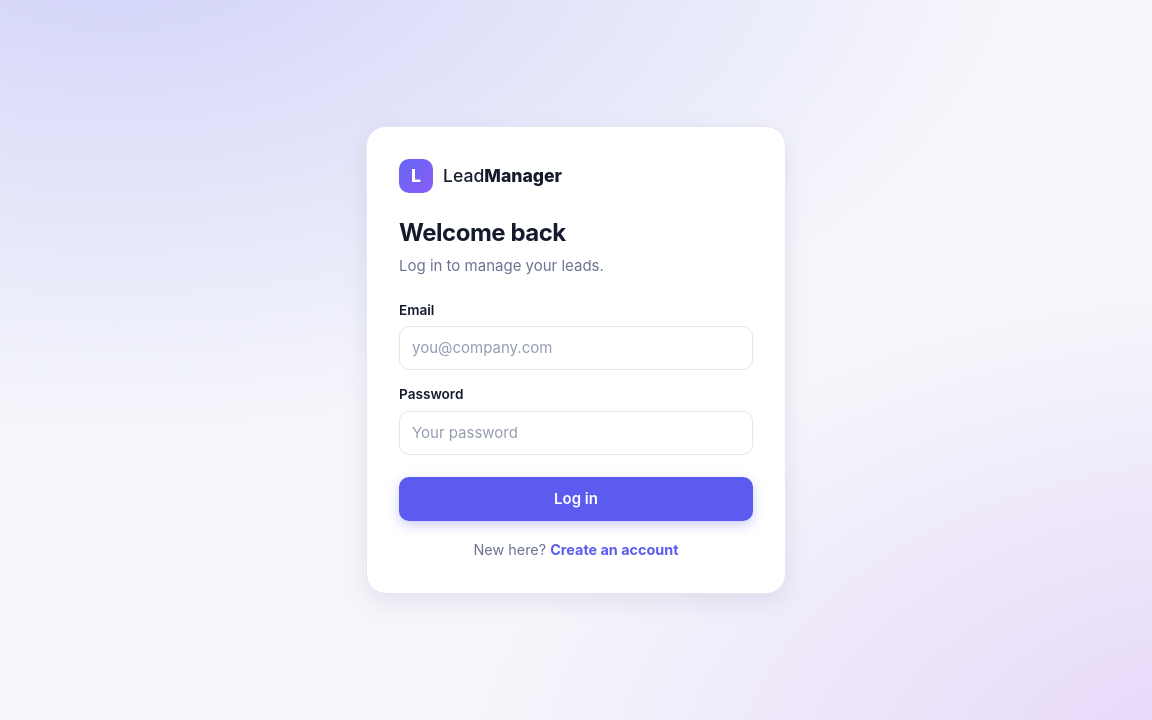
Test: Login › shows the server message for wrong credentials and stays on the page
The width and height of the screenshot is (1152, 720).
Type "demo@example.com" into the field labelled "Email" at [576, 348], box [399,326,753,370]
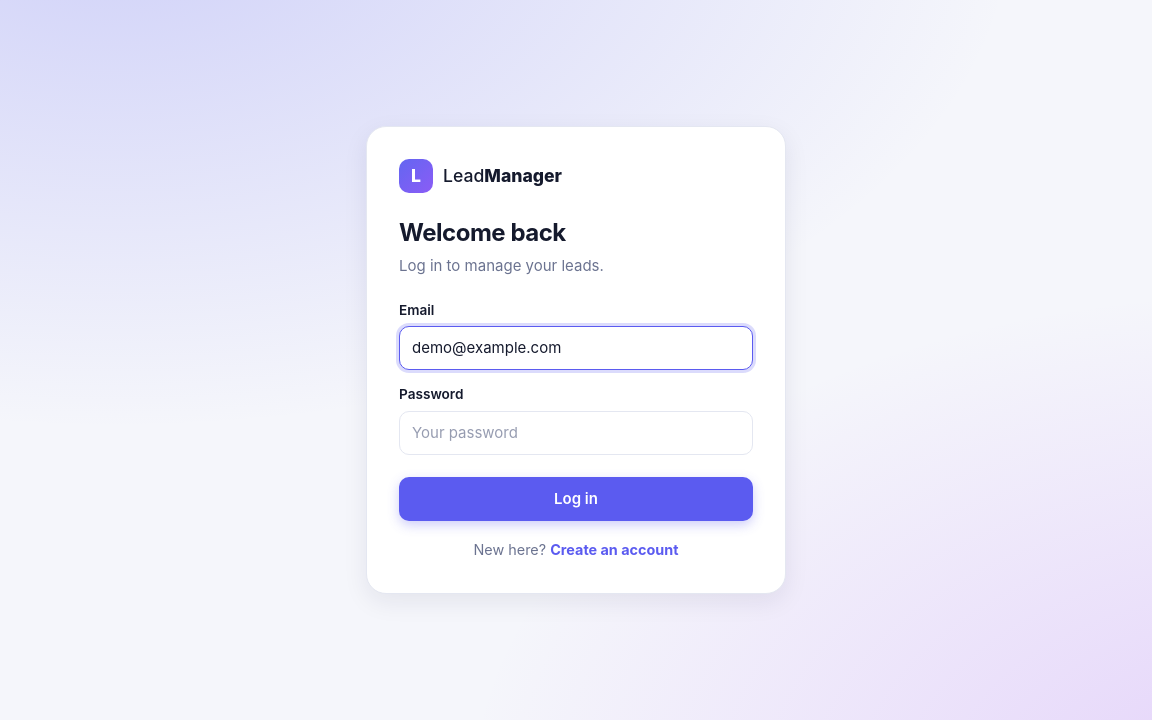
Type "wrongwrong" into the password field labelled "Password" at [576, 433], box [399,411,753,455]
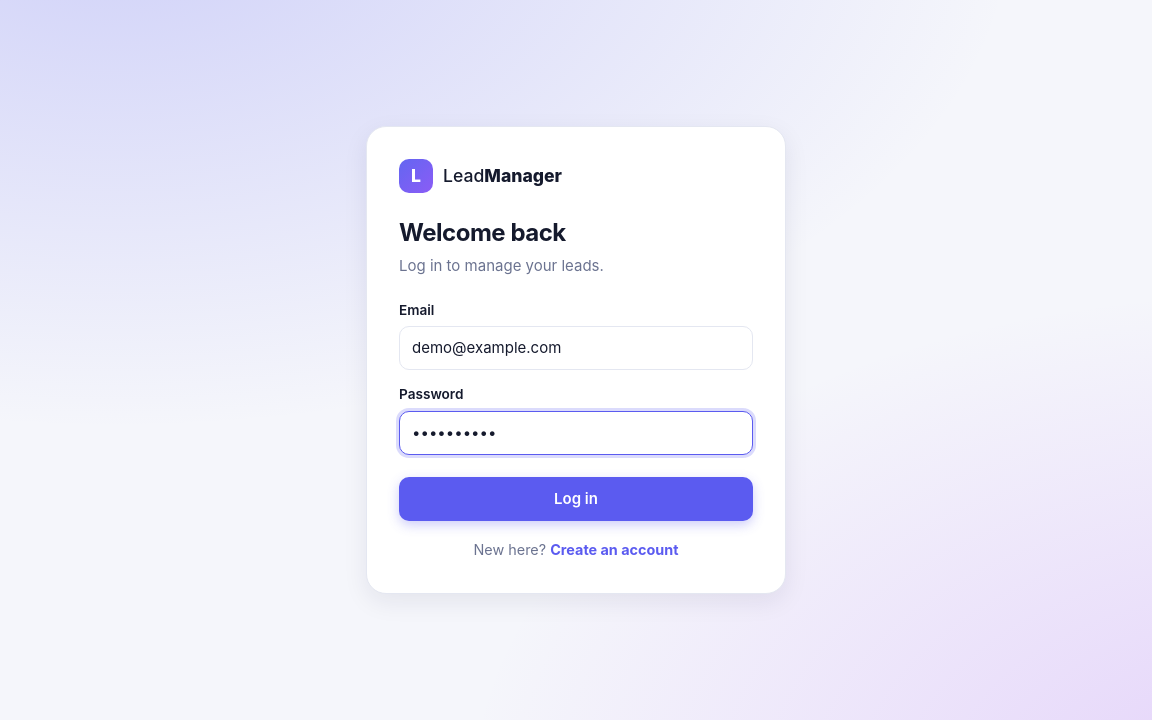
Click the button "Log in" at [576, 499], box [399,477,753,521]
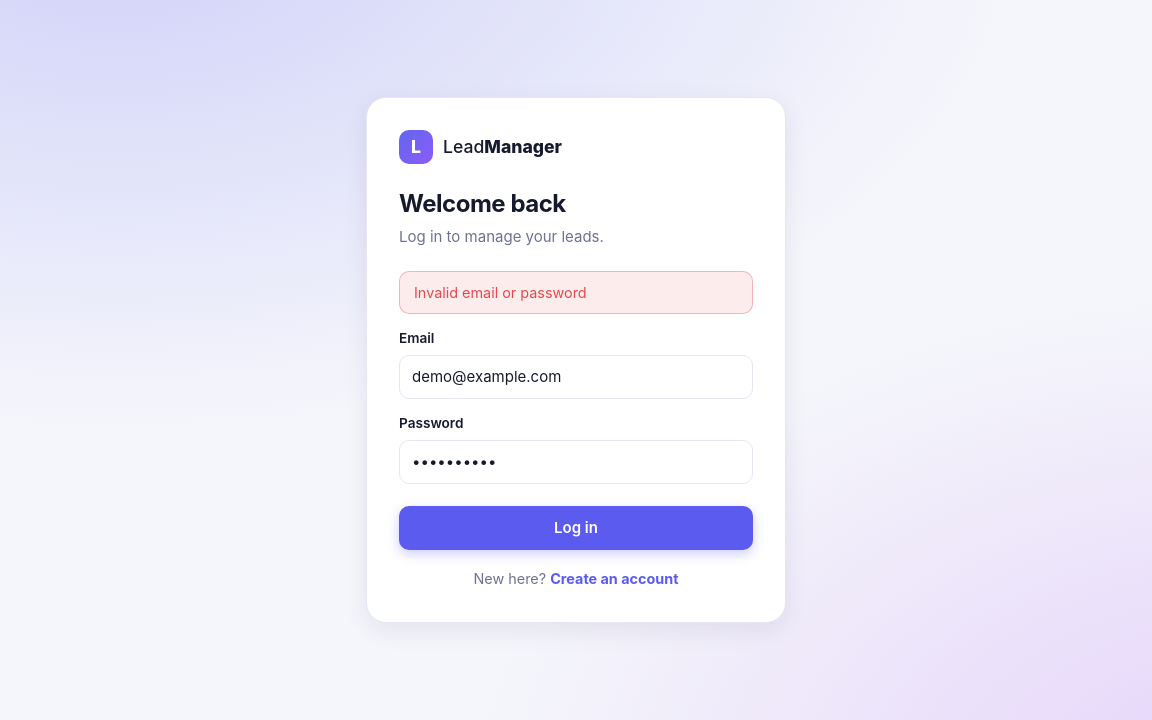
Expected: the button "Log in" is enabled, [399,506,753,550]
Expected: the message reads "Invalid email or password", [414,284,587,301]
